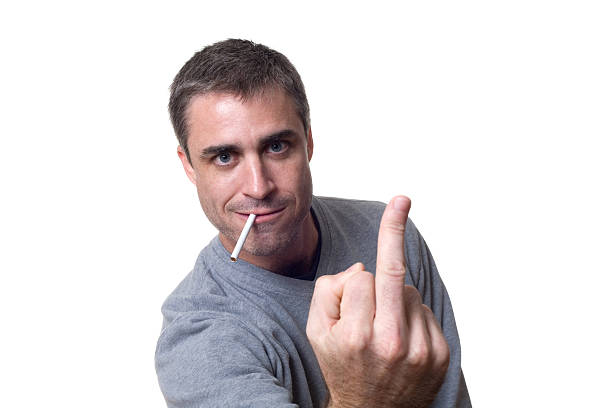cigarette: (228, 213, 259, 260)
insulting_gesture: (303, 194, 449, 408)
